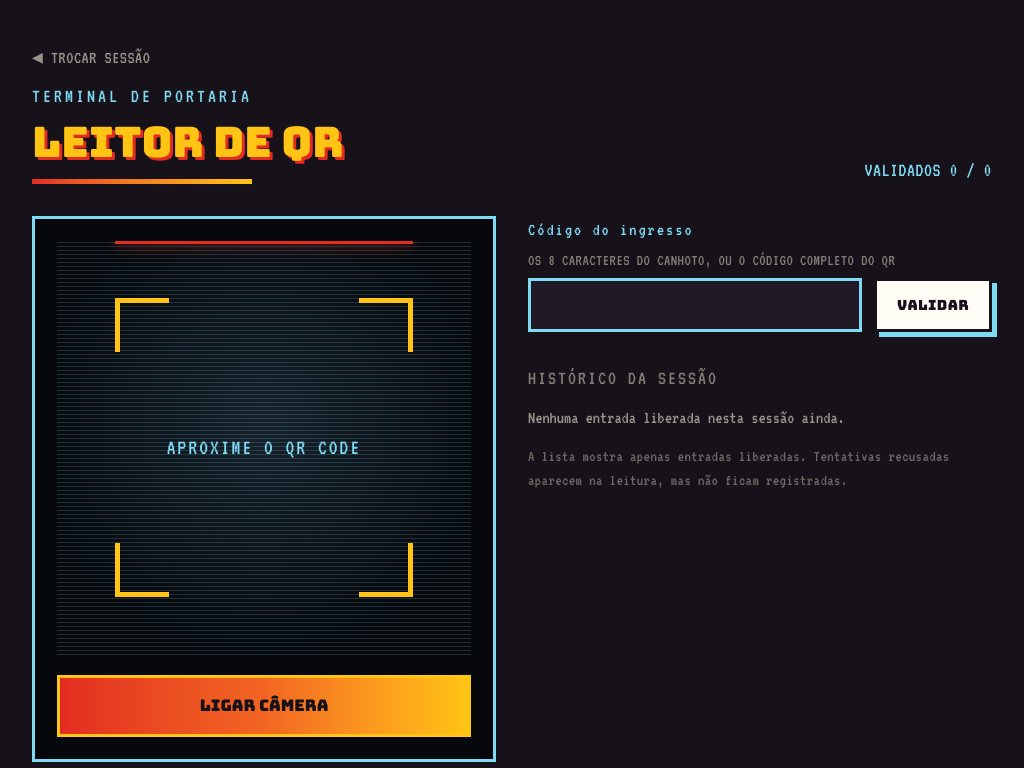
Test case: ValidacaoPortariaPage › refreshes the shift panel after a released entry
This screenshot has width=1024, height=768.
Check: the text "Nenhuma entrada liberada nesta sessão ainda." is shown, box [528,408,845,426]
Step 1. Type "codigo-valido" into the field labelled "Código do ingresso" → (695, 304), box [528,278,862,332]
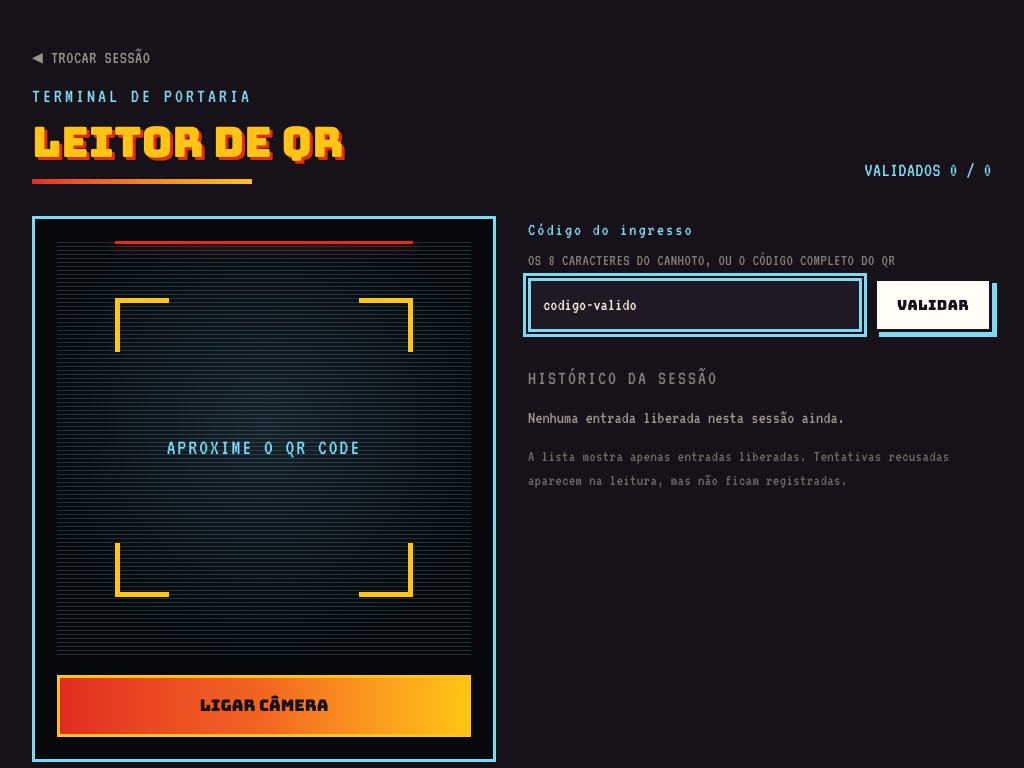
Step 2. Click the button "VALIDAR" → (933, 304), box [874,278,992,332]
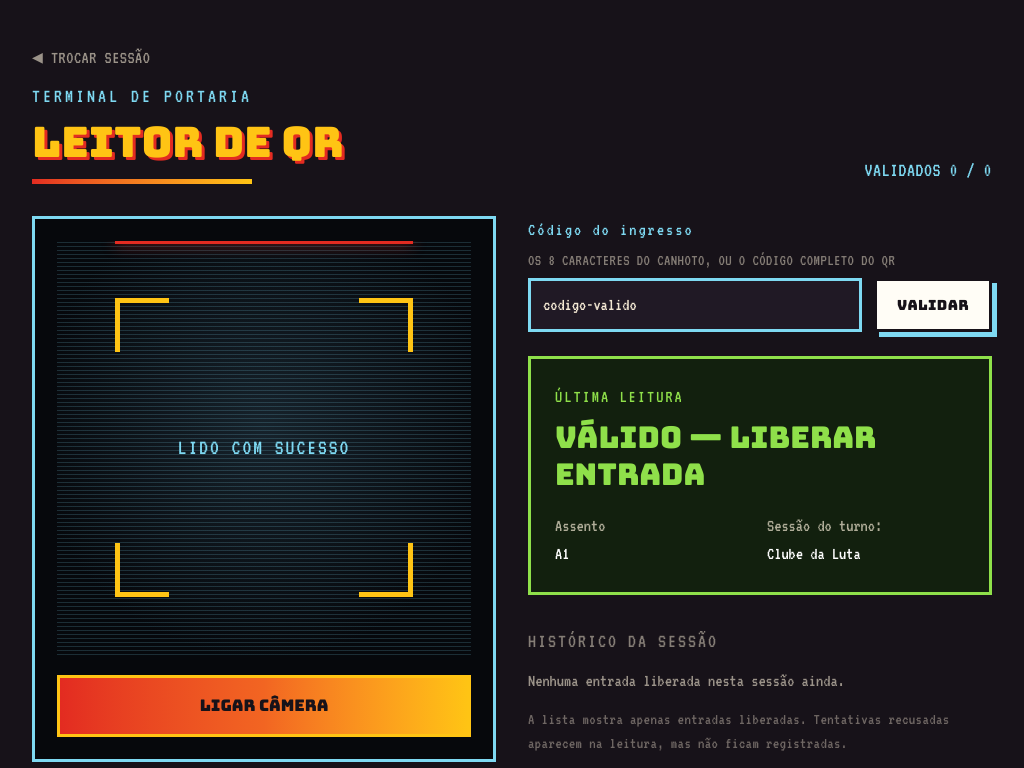
Check: the text "VÁLIDO — LIBERAR ENTRADA" is shown, box [555,416,876,494]
